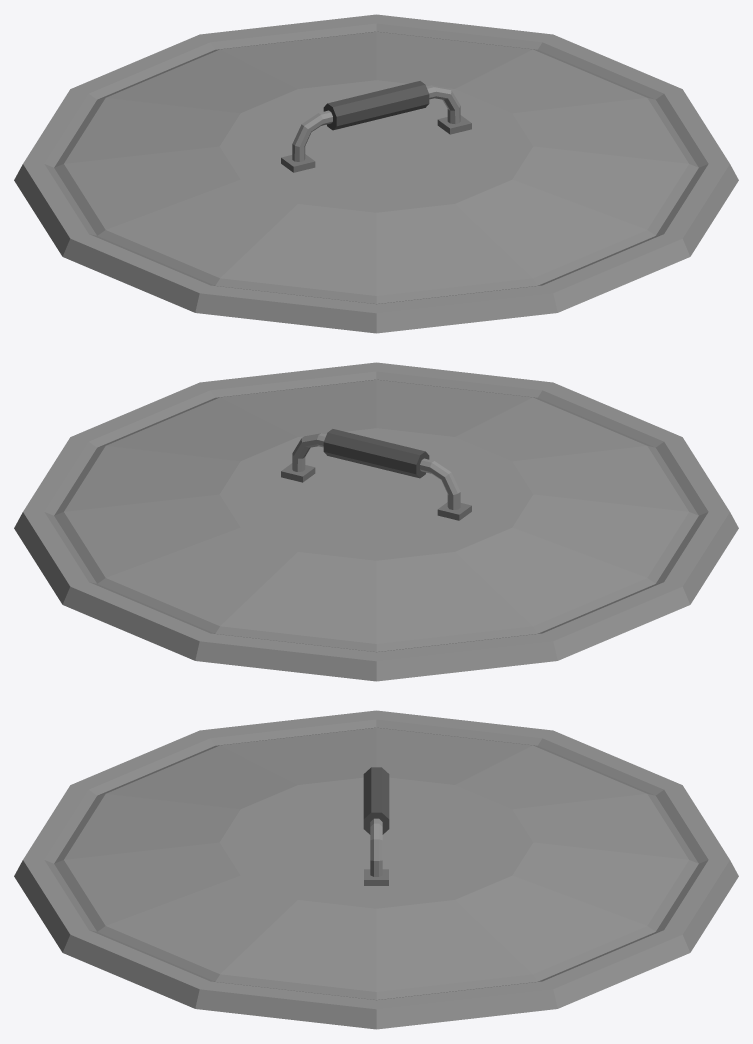
Rendered from PanPart_01.fbx.
3 renders of one model, top to bottom at view 1: azimuth 30°, elevation 25°; view 2: azimuth 150°, elevation 25°; view 3: azimuth 270°, elevation 25°, orthographic.
Parts seen in each view (by area): view 1: PanPart_01; view 2: PanPart_01; view 3: PanPart_01.
Part boxes in pixels (box(x1,y1,x2,y2)): PanPart_01: box(14, 14, 738, 333); PanPart_01: box(14, 362, 738, 681); PanPart_01: box(14, 710, 738, 1029).
Size of the model in its own units: 27.92 by 3.67 by 27.92.
